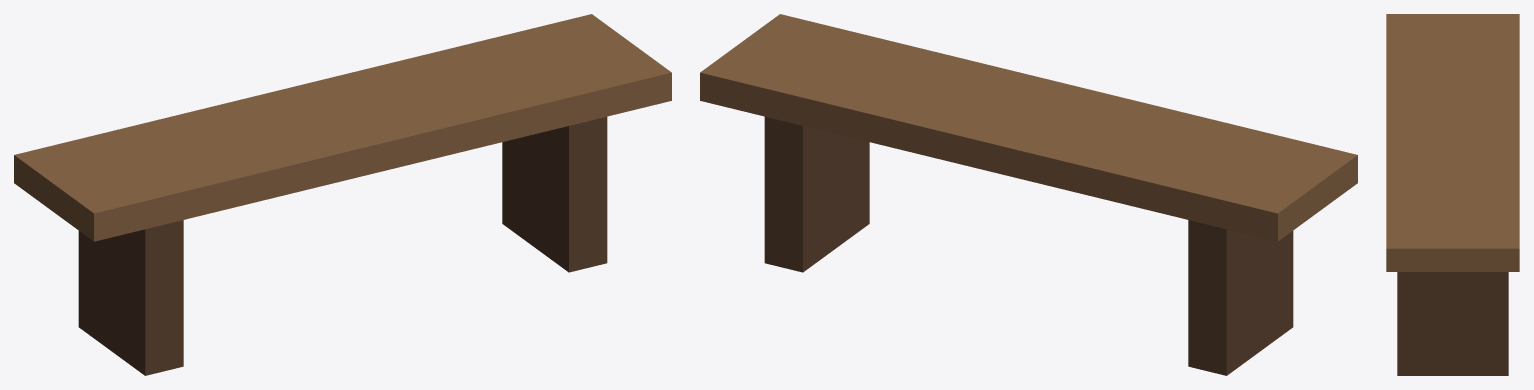
File: bench.glb
3 views of the same model, side by side, from view 1: azimuth 30°, elevation 25°; view 2: azimuth 150°, elevation 25°; view 3: azimuth 270°, elevation 25° (orthographic). The views are drawn at different scales.
Visible parts, largest first — view 1: bench; view 2: bench; view 3: bench.
Part boxes in pixels (x1,y1,x2,y2): bench: (14, 14, 671, 375); bench: (700, 14, 1357, 375); bench: (1386, 14, 1519, 375).
Bounding box in the file's own units: 1.5 × 0.45 × 0.36.
